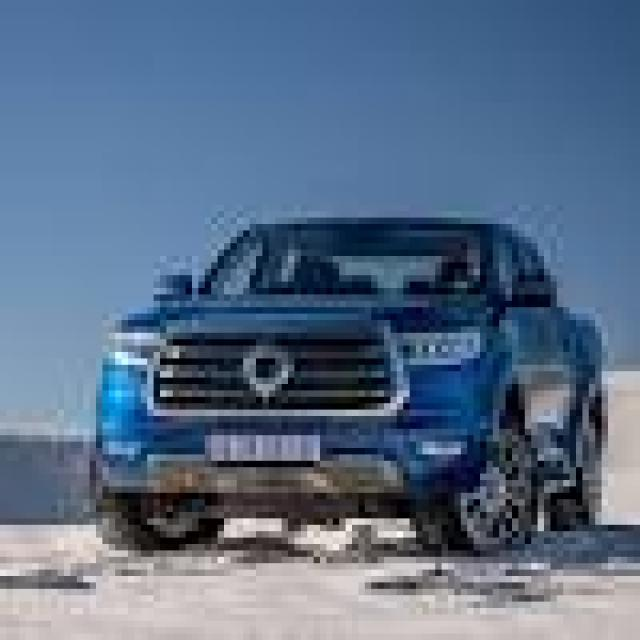Pickup Trucks: (90, 211, 614, 557)
